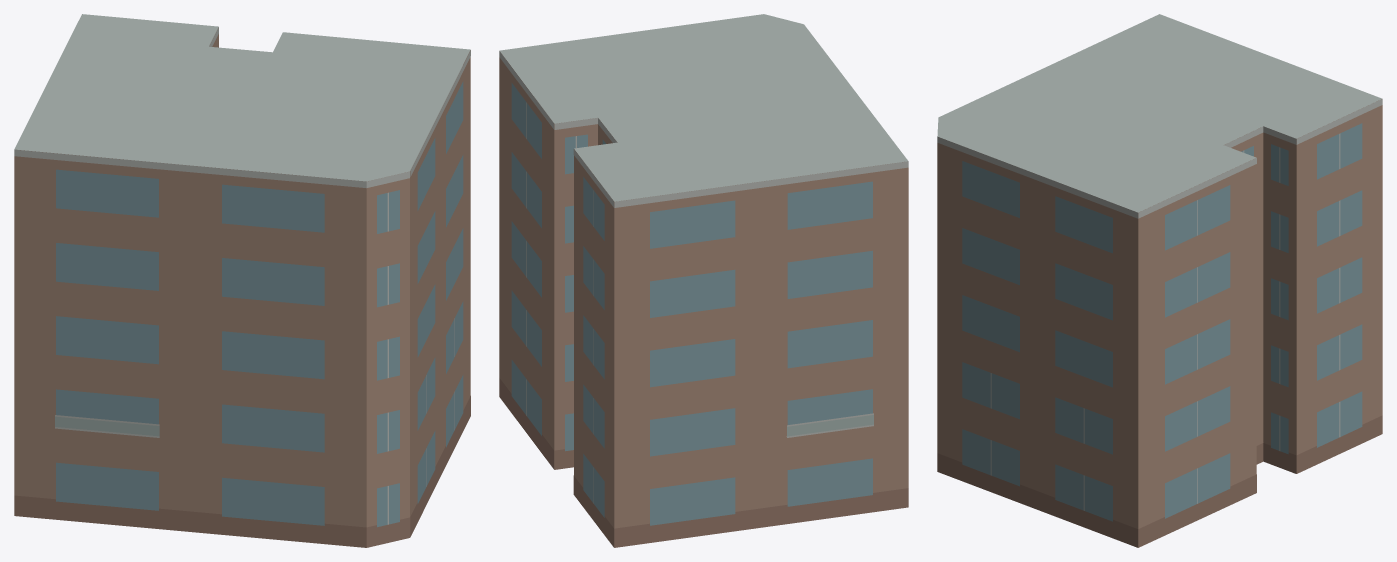
Rendered from survey-upis-32662457.glb.
3 views of the same model, side by side, from view 1: azimuth 30°, elevation 25°; view 2: azimuth 150°, elevation 25°; view 3: azimuth 270°, elevation 25° (orthographic). The views are drawn at different scales.
Parts seen in each view (by area): view 1: survey-upis-32662457.tmp; view 2: survey-upis-32662457.tmp; view 3: survey-upis-32662457.tmp.
Boxes of the visible parts, x1,y1,x2,y2 form: survey-upis-32662457.tmp: [14, 14, 470, 547]; survey-upis-32662457.tmp: [499, 14, 908, 547]; survey-upis-32662457.tmp: [937, 14, 1382, 547].
Bounding box in the file's own units: 16.91 × 13.3 × 16.01.
